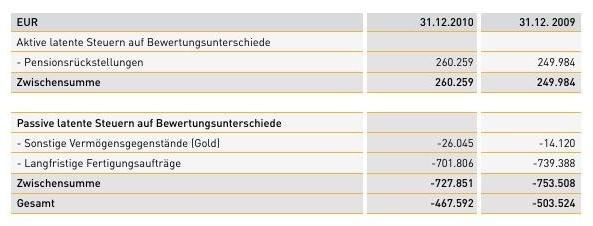table: (0, 0, 593, 226)
